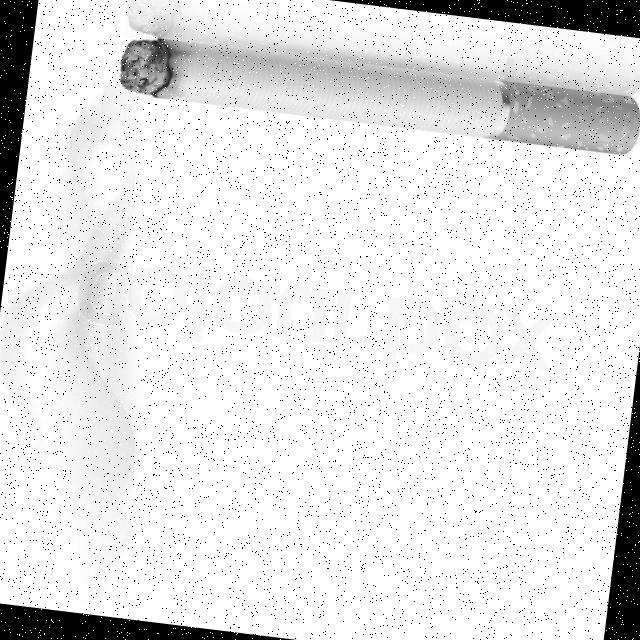cigarette: (111, 31, 640, 167)
